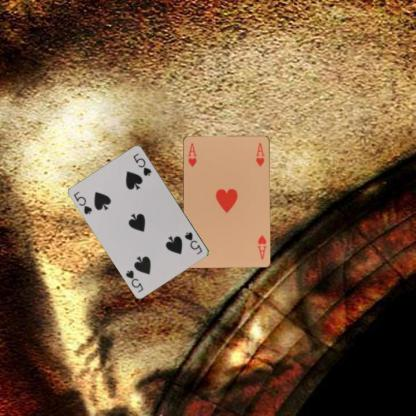5s: (71, 189, 94, 215), (182, 229, 203, 256)
Ah: (255, 232, 268, 261), (185, 140, 197, 168)
